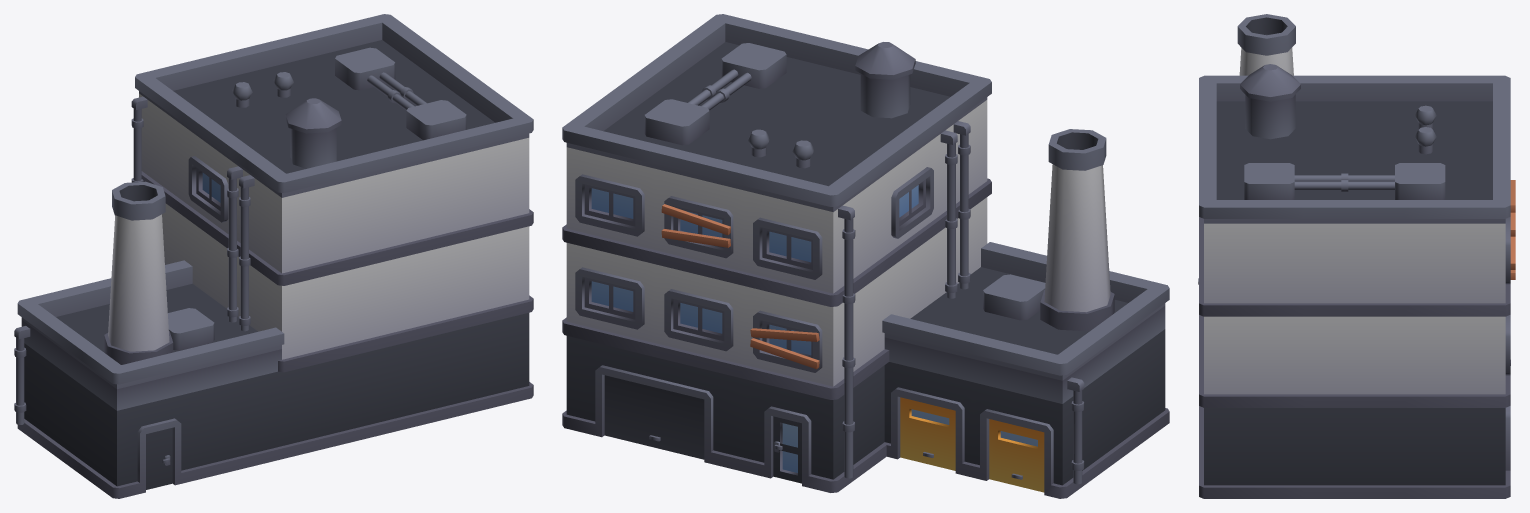
The model's file is industrial-building-b.glb.
3 views of the same model, side by side, from view 1: azimuth 30°, elevation 25°; view 2: azimuth 150°, elevation 25°; view 3: azimuth 270°, elevation 25° (orthographic). The views are drawn at different scales.
Parts seen in each view (by area): view 1: building-b; view 2: building-b; view 3: building-b.
Boxes of the visible parts, bbox=[...] form: building-b: bbox=[14, 14, 533, 498]; building-b: bbox=[562, 14, 1169, 498]; building-b: bbox=[1198, 14, 1515, 498].
Size of the model in its own units: 2.08 by 1.47 by 1.26.
